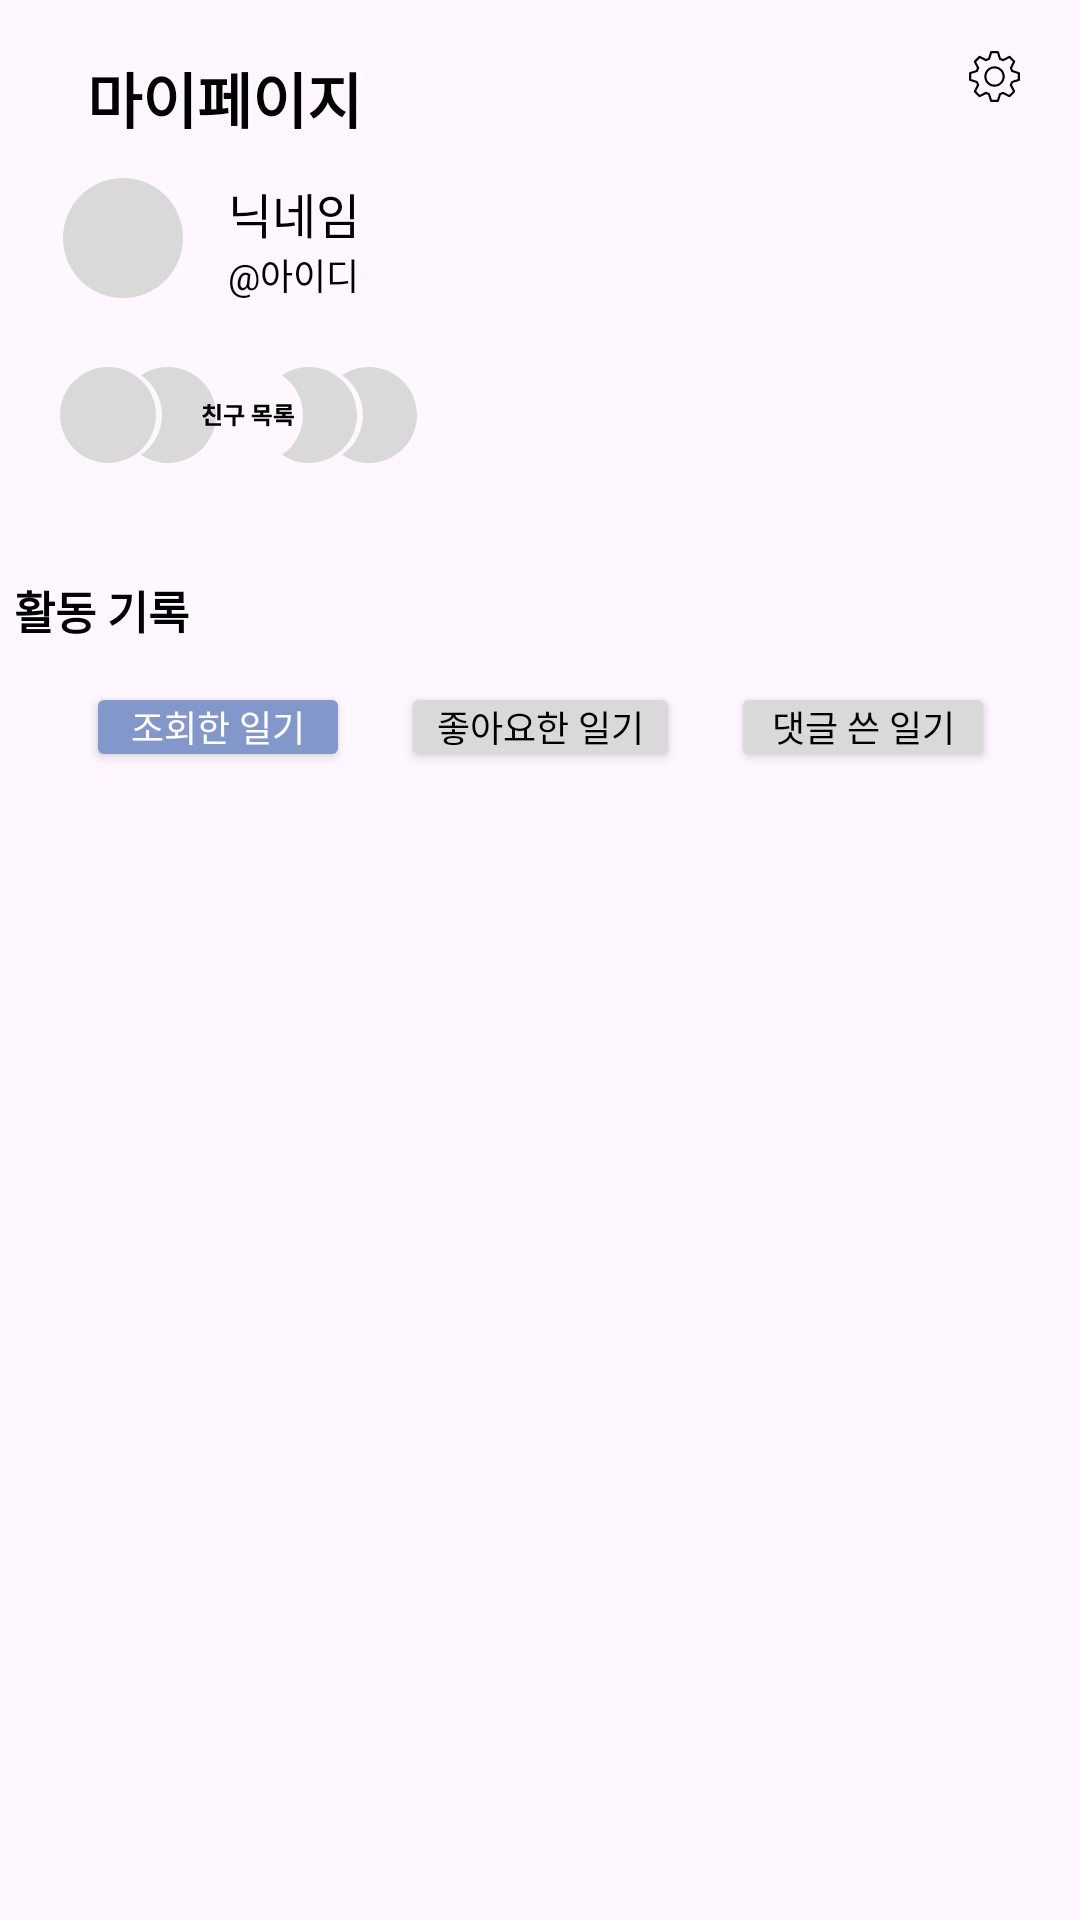

Where icons sit on this 1080 x 1920 app screen, as (x1, y1, x2, y2):
setting: (969, 51, 1020, 102)
